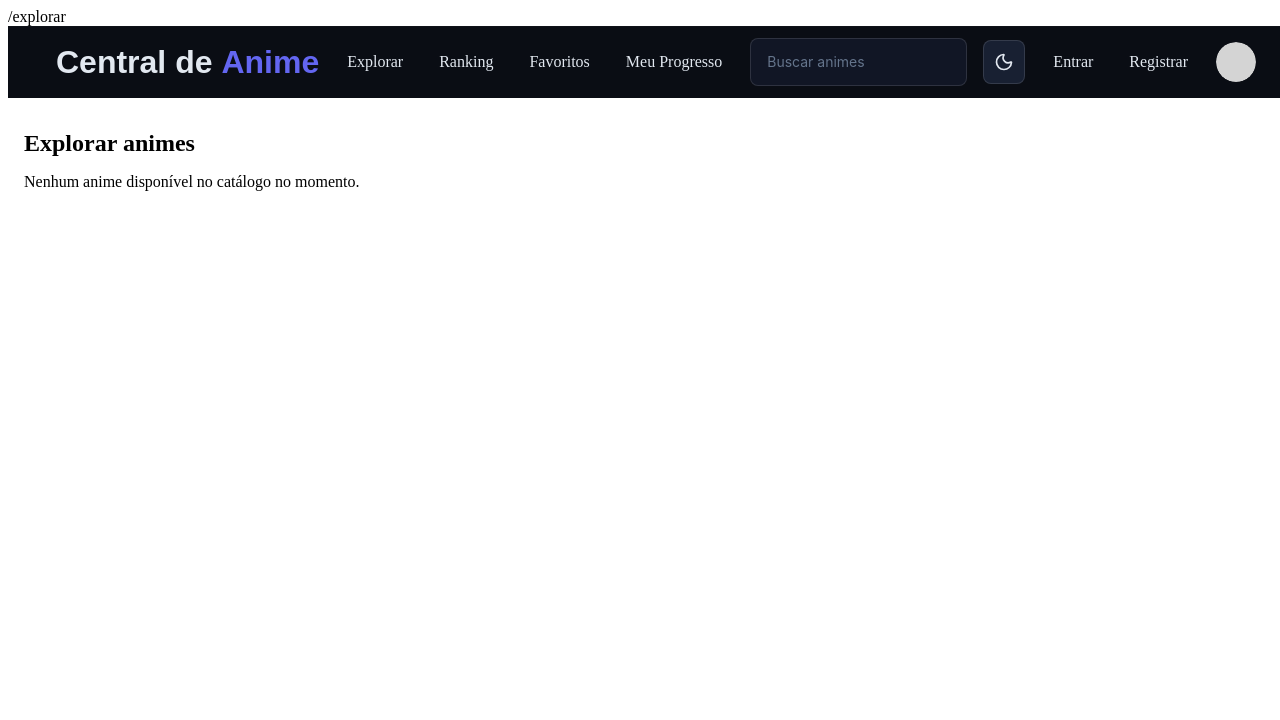
Scenario: Explorar e pesquisa › pesquisa pelo Header, normaliza a busca e atualiza URL e resultados
The image size is (1280, 720).
Expected: the heading "Explorar animes" is shown, [24,130,195,156]
Type "  Ação & aventura  " into the search field labelled "Buscar animes" at {"x": 858, "y": 62}, box [750,38,967,86]
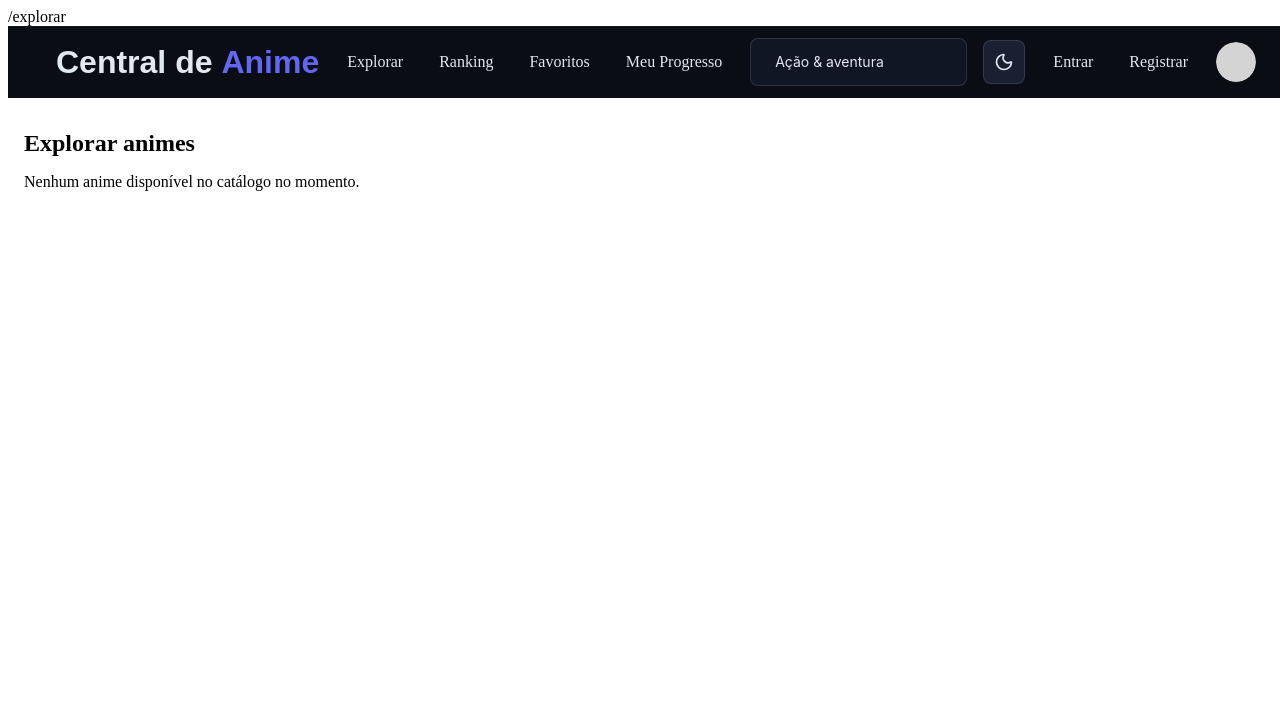
Submit the form, box [750,38,967,86]
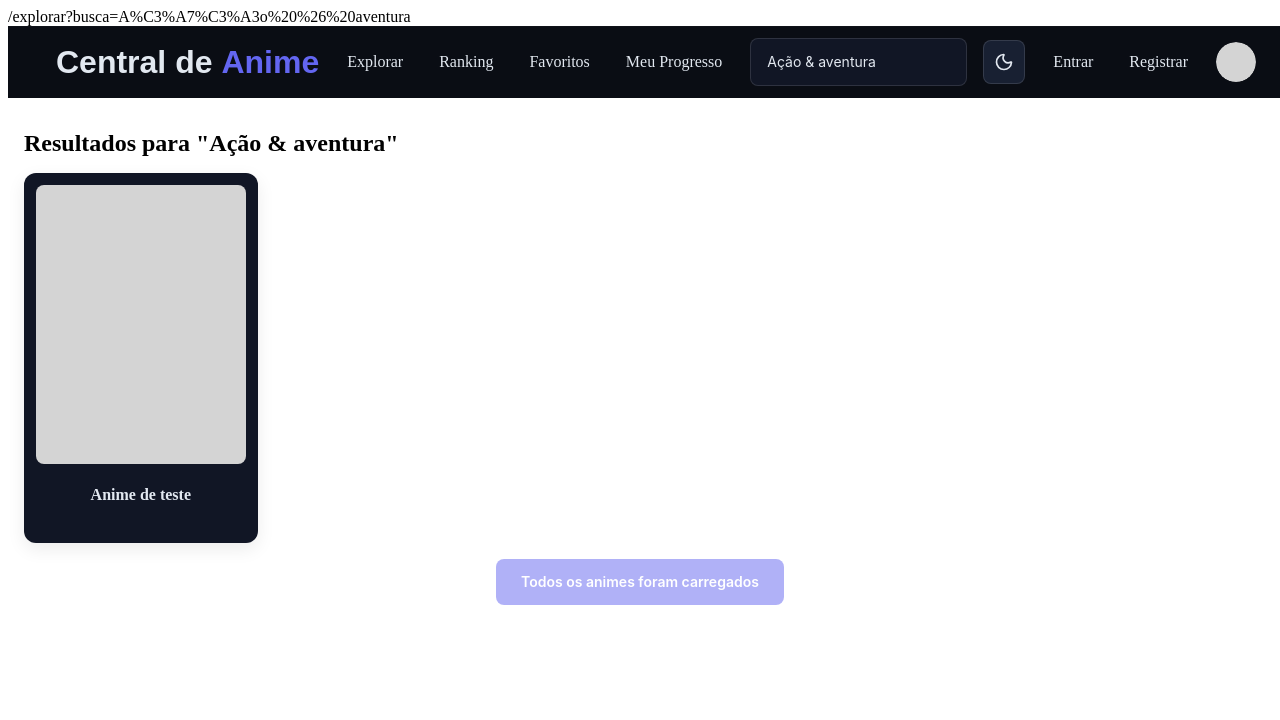
Result: the heading "Resultados para \"Ação & aventura\"" is shown at [24,130,399,156]
Result: the text with test id "current-path" reads "/explorar?busca=A%C3%A7%C3%A3o%20%26%20aventura" at [8,8,411,25]
Result: the heading "Anime de teste" is shown at [91,486,191,503]
